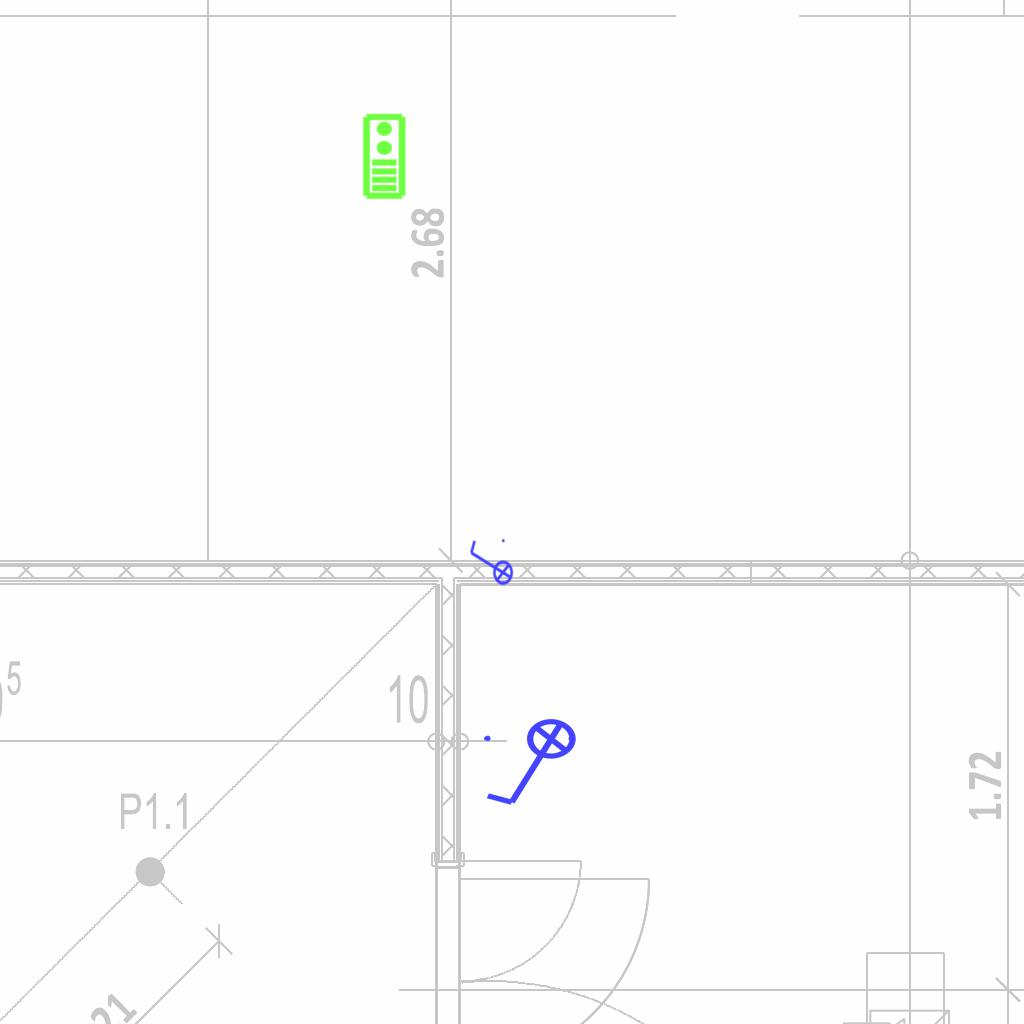Ausschalter_beleuchtet: (478, 717, 590, 813), (466, 536, 514, 592)
Gegensprechanlage_mit_Video: (360, 112, 407, 200)
